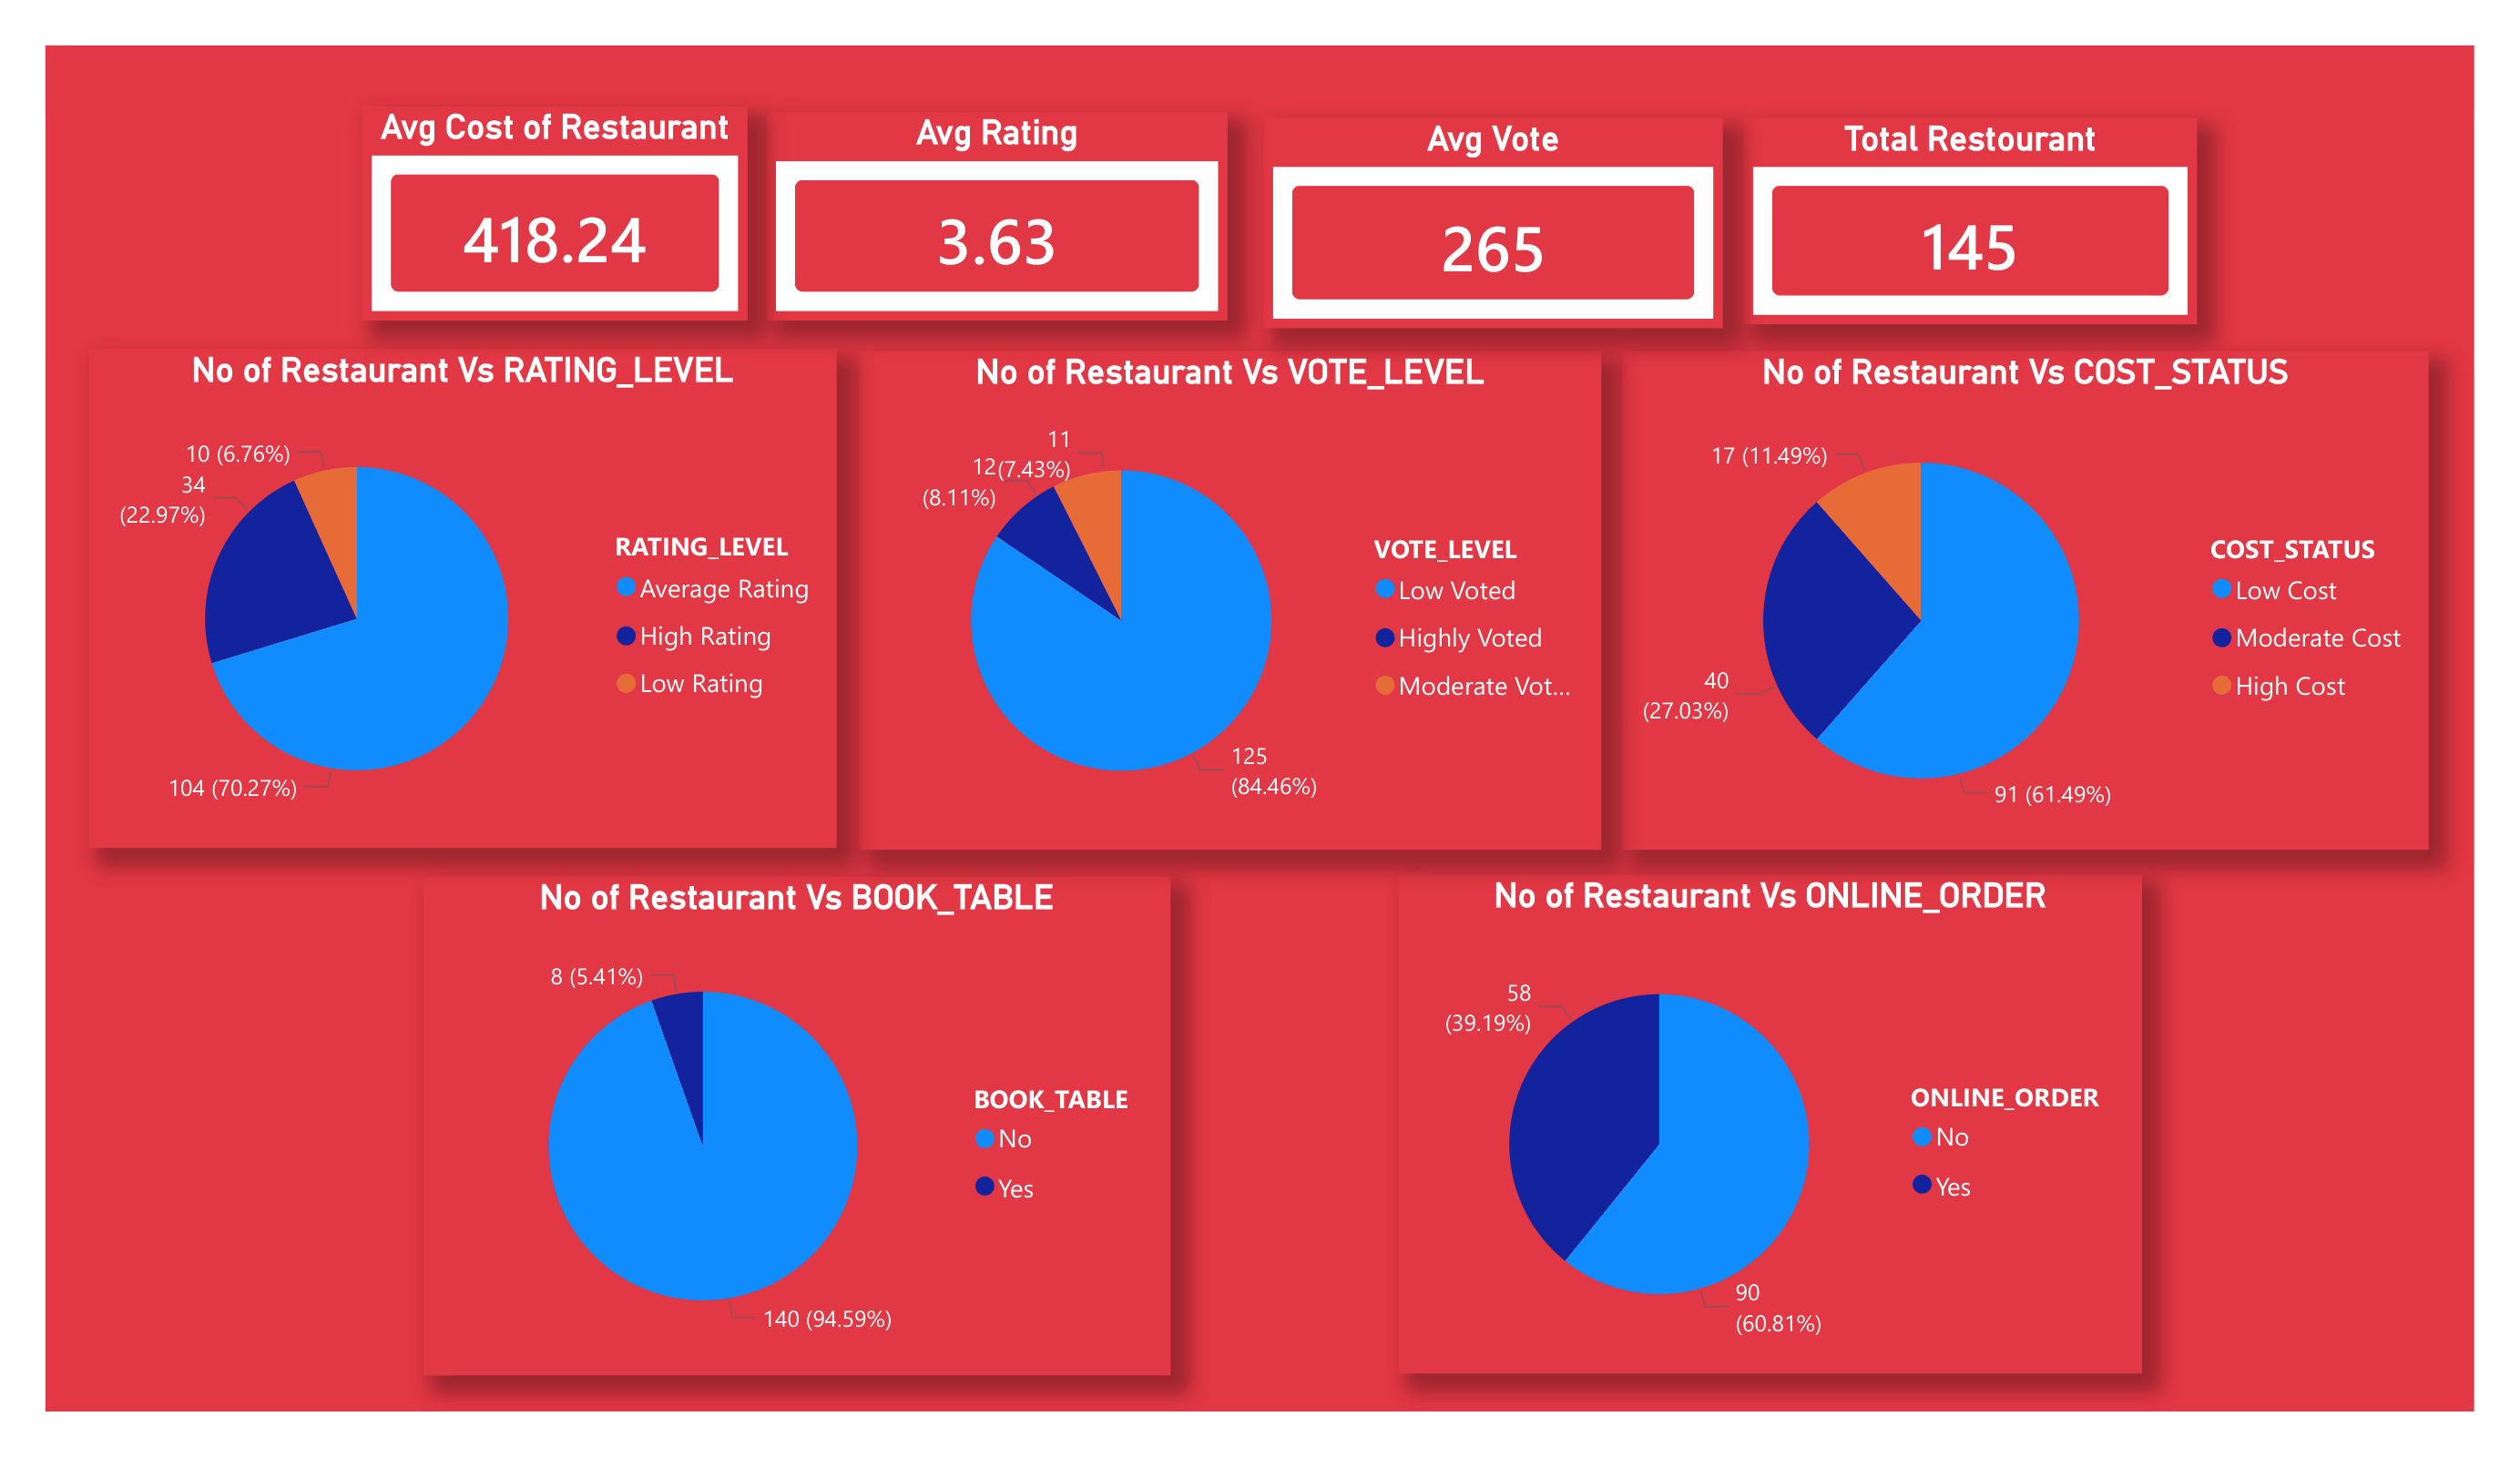

Layout of this report page (visuals, bound fields, positions):
{"tool":"powerbi","page":{"name":"Restaurant Count","canvas":[1280,720],"ordinal":1},"visuals":[{"type":"cardVisual","title":"Avg Cost of Restaurant","fields":{"Data":["Avg(ZOMATO_DATA.COST)"]},"box":[167.4,31.9,202.4,113.1],"z":0},{"type":"cardVisual","title":"Avg Rating","fields":{"Data":["ZOMATO_DATA.Avg Rating"]},"box":[380.5,35.5,242.9,109.5],"z":1000},{"type":"cardVisual","title":"Avg Vote","fields":{"Data":["Avg(ZOMATO_DATA.VOTES)"]},"box":[642.4,37.9,241.7,110.7],"z":2000},{"type":"cardVisual","title":"Total Restourant","fields":{"Data":["Count(ZOMATO_DATA.NAME)"]},"box":[894.8,37.9,239.3,109.5],"z":3000},{"type":"pieChart","title":"No of Restaurant Vs RATING_LEVEL","fields":{"Category":["ZOMATO_DATA.RATING_LEVEL"],"Y":["CountNonNull(ZOMATO_DATA.NAME)"]},"box":[22.6,159.5,394,263.1],"z":4000},{"type":"pieChart","title":"No of Restaurant Vs VOTE_LEVEL","fields":{"Y":["CountNonNull(ZOMATO_DATA.NAME)"],"Category":["ZOMATO_DATA.VOTE_LEVEL"]},"box":[428.6,160.7,391.7,263.1],"z":5000},{"type":"pieChart","title":"No of Restaurant Vs COST_STATUS","fields":{"Y":["CountNonNull(ZOMATO_DATA.NAME)"],"Category":["ZOMATO_DATA.COST_STATUS"]},"box":[831,160.7,425,263.1],"z":6000},{"type":"pieChart","title":"No of Restaurant Vs BOOK_TABLE","fields":{"Y":["CountNonNull(ZOMATO_DATA.NAME)"],"Category":["ZOMATO_DATA.BOOK_TABLE"]},"box":[198.8,438.1,394,263.1],"z":6001},{"type":"pieChart","title":"No of Restaurant Vs ONLINE_ORDER","fields":{"Y":["CountNonNull(ZOMATO_DATA.NAME)"],"Category":["ZOMATO_DATA.ONLINE_ORDER"]},"box":[713.1,436.9,391.7,263.1],"z":6002}]}

Visuals, with their boxes on the page's 1280x720 design canvas (x1, y1, x2, y2). These are canvas units, not pixel positions in the 2520x1457 screenshot, which may show the page scaled, cropped or inside an application window:
"Avg Cost of Restaurant" cardVisual: rect(167, 32, 370, 145)
"Avg Rating" cardVisual: rect(380, 36, 623, 145)
"Avg Vote" cardVisual: rect(642, 38, 884, 149)
"Total Restourant" cardVisual: rect(895, 38, 1134, 147)
"No of Restaurant Vs RATING_LEVEL" pieChart: rect(23, 160, 417, 423)
"No of Restaurant Vs VOTE_LEVEL" pieChart: rect(429, 161, 820, 424)
"No of Restaurant Vs COST_STATUS" pieChart: rect(831, 161, 1256, 424)
"No of Restaurant Vs BOOK_TABLE" pieChart: rect(199, 438, 593, 701)
"No of Restaurant Vs ONLINE_ORDER" pieChart: rect(713, 437, 1105, 700)
